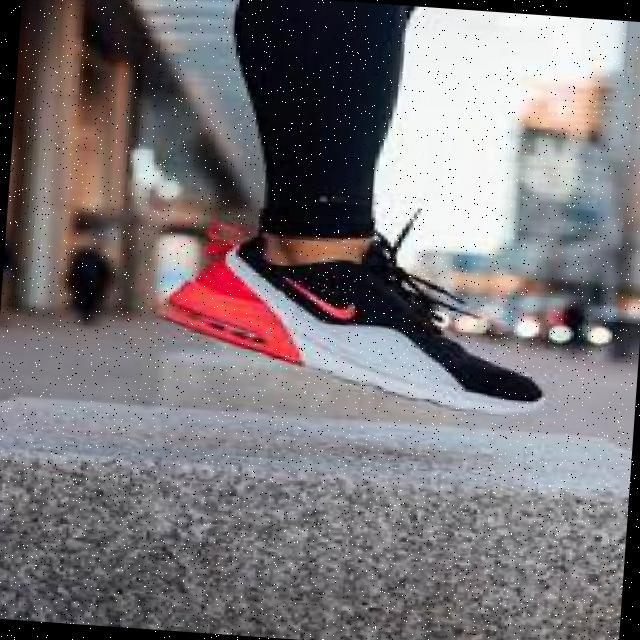Nike: (276, 271, 359, 324)
